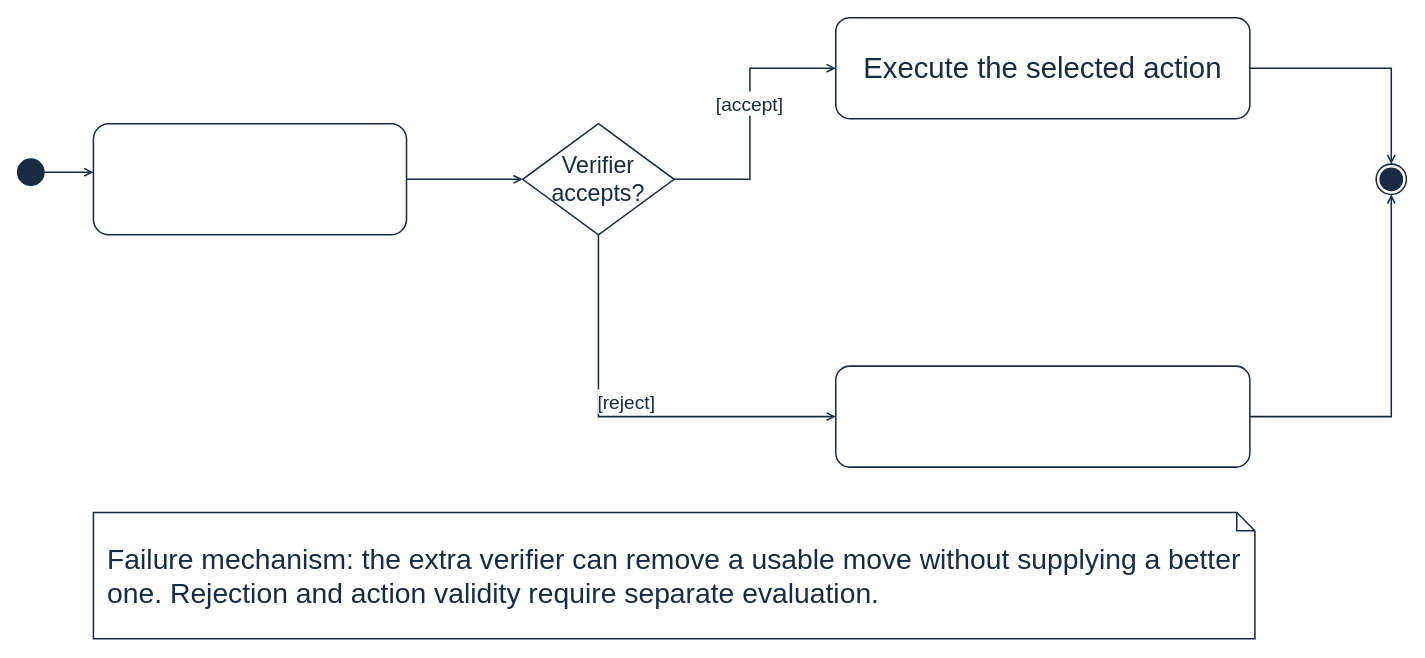
The diagram is 1425 pixels wide and 658 high, and some of its shapes have lost their labels. Each missing label, with the centre of its shape:
C selects a permitted action: the point at 249,179
Return no action: the point at 1042,416
